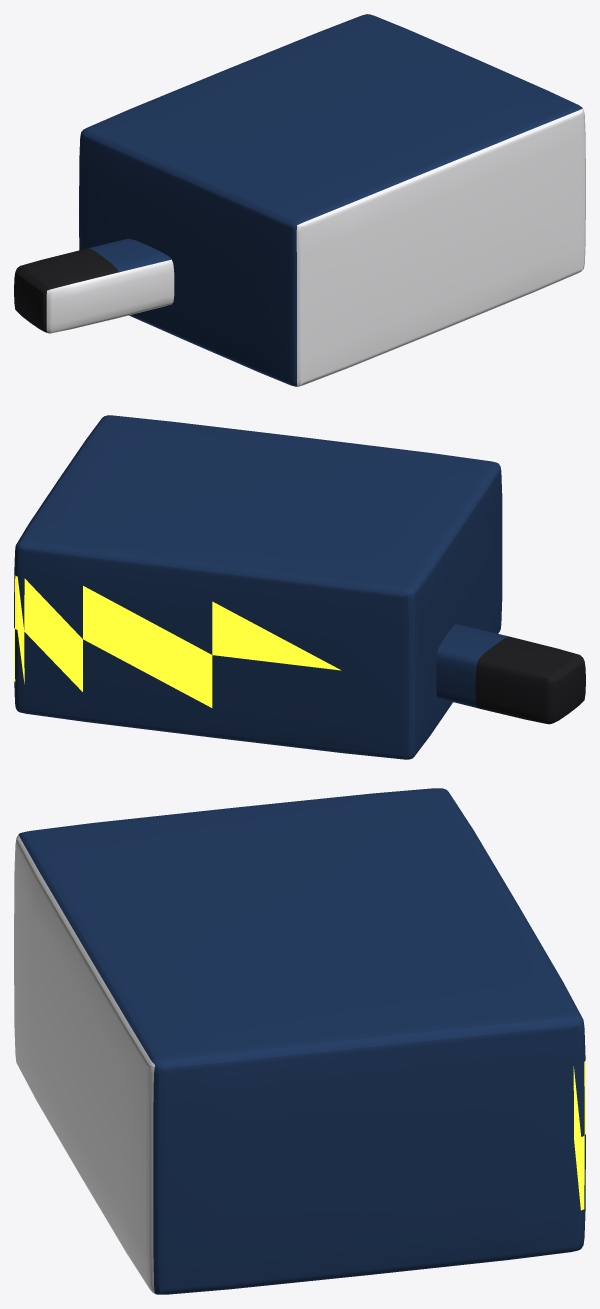
Rendered from mirror_left.glb.
3 renders of one model, top to bottom at view 1: azimuth 30°, elevation 25°; view 2: azimuth 150°, elevation 25°; view 3: azimuth 270°, elevation 25°, orthographic. The views are drawn at different scales.
Parts seen in each view (by area): view 1: GEO_Mirror_Left; view 2: GEO_Mirror_Left; view 3: GEO_Mirror_Left.
Part boxes in pixels (x1=…): GEO_Mirror_Left: x1=14, y1=14, x2=585, y2=386; GEO_Mirror_Left: x1=14, y1=415, x2=585, y2=759; GEO_Mirror_Left: x1=14, y1=788, x2=585, y2=1294.
Bounding box in the file's own units: 0.1993 × 0.0648 × 0.1369.
